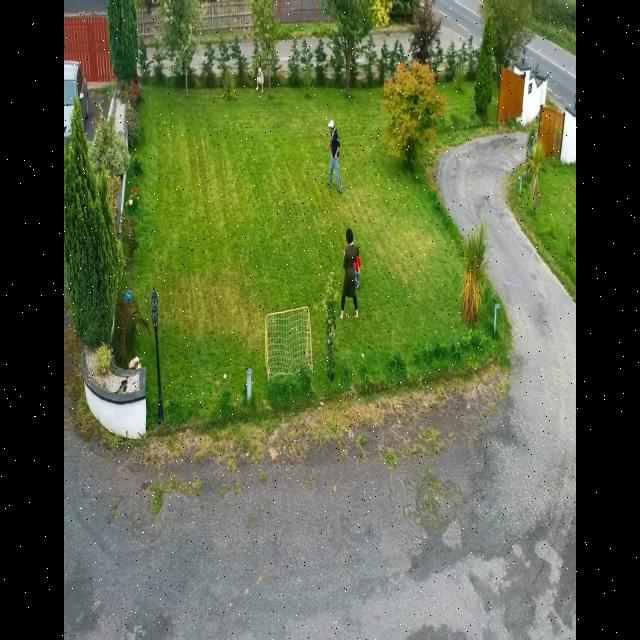humans: (338, 224, 360, 333), (324, 116, 343, 196)
